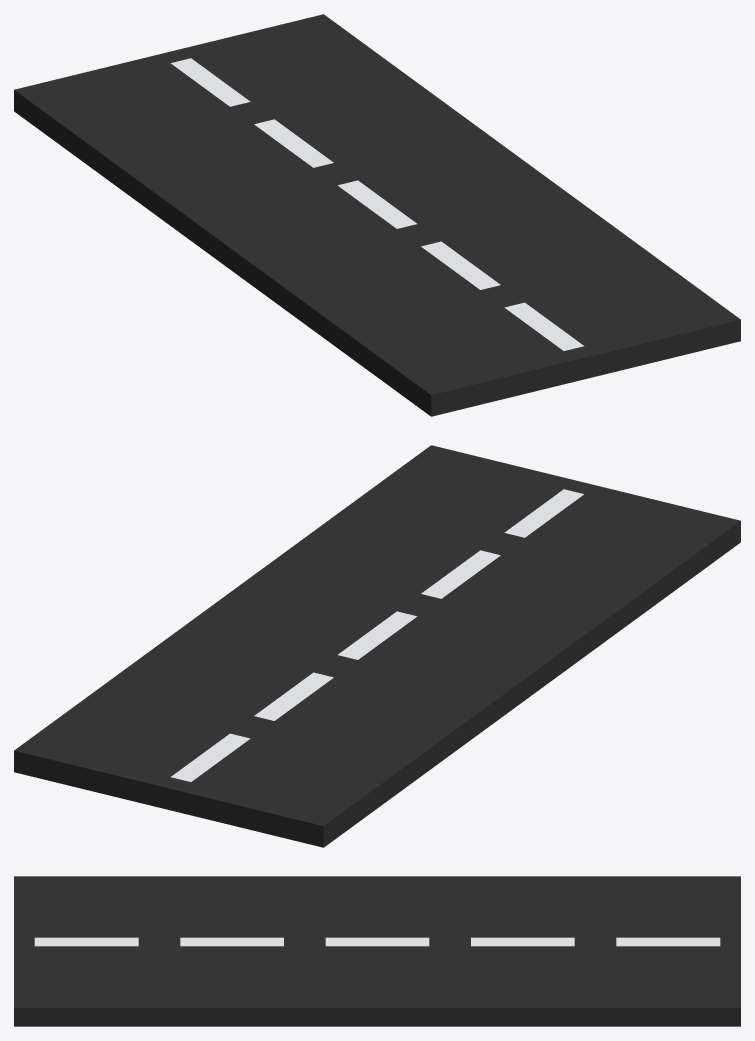
The model's file is RoadFBX.fbx.
3 renders of one model, top to bottom at view 1: azimuth 30°, elevation 25°; view 2: azimuth 150°, elevation 25°; view 3: azimuth 270°, elevation 25°, orthographic. The views are drawn at different scales.
Parts seen in each view (by area): view 1: Road; view 2: Road; view 3: Road.
Boxes of the visible parts, left/top/right/bottom form: Road: left=14, top=14, right=740, bottom=416; Road: left=14, top=445, right=740, bottom=847; Road: left=14, top=876, right=740, bottom=1026.
Size of the model in its own units: 150 by 10 by 350.
